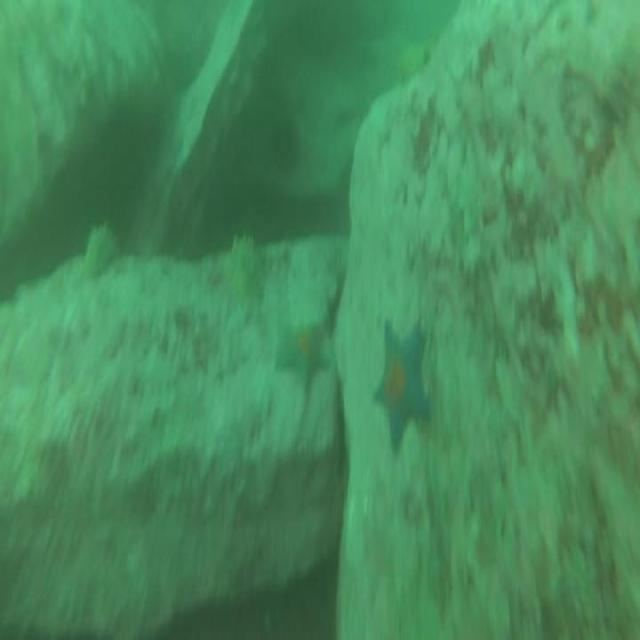echinus: (267, 114, 305, 177)
holothurian: (225, 230, 267, 314), (84, 220, 120, 276)
starfish: (371, 319, 433, 457), (274, 321, 330, 396)
